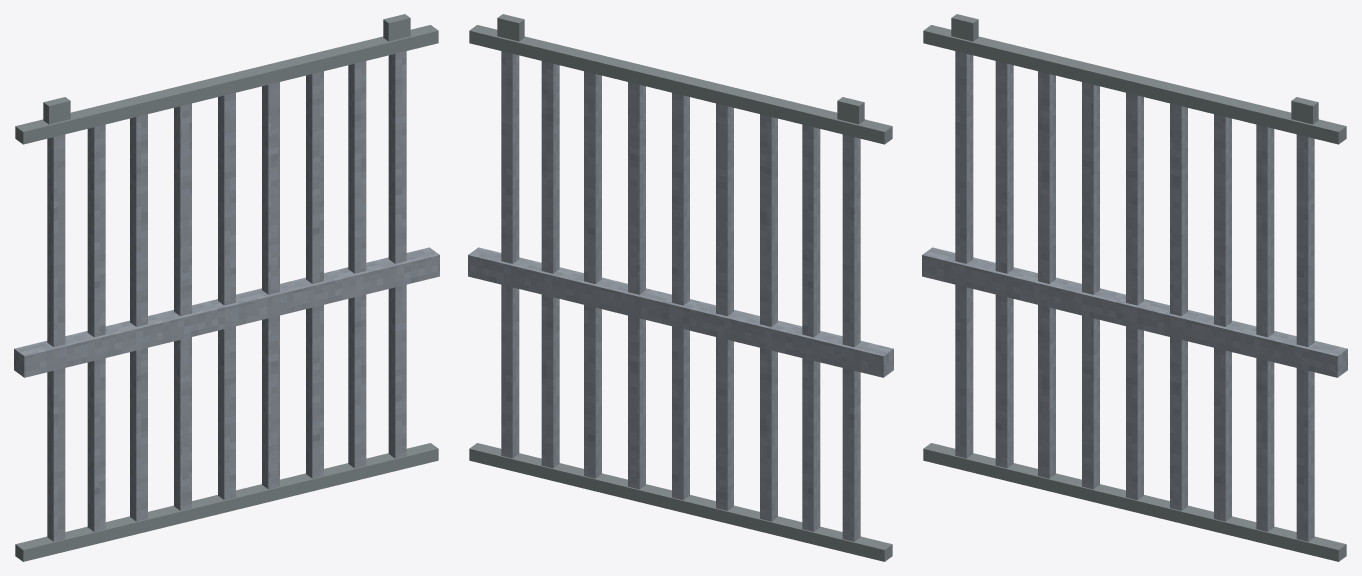
The model's file is vehicle-moving-panel.glb.
3 renders of one model, left to right at view 1: azimuth 30°, elevation 25°; view 2: azimuth 150°, elevation 25°; view 3: azimuth 330°, elevation 25°, orthographic.
Visible parts, largest first — view 1: Vehicle gate retained bars and cross rail, Entrance rebuild Vehicle gate moving head rail, Entrance rebuild Vehicle gate moving toe rail, Entrance rebuild Vehicle gate travelling hanger 33, Entrance rebuild Vehicle gate travelling hanger 34; view 2: Vehicle gate retained bars and cross rail, Entrance rebuild Vehicle gate moving head rail, Entrance rebuild Vehicle gate moving toe rail, Entrance rebuild Vehicle gate travelling hanger 33, Entrance rebuild Vehicle gate travelling hanger 34; view 3: Vehicle gate retained bars and cross rail, Entrance rebuild Vehicle gate moving head rail, Entrance rebuild Vehicle gate moving toe rail, Entrance rebuild Vehicle gate travelling hanger 34, Entrance rebuild Vehicle gate travelling hanger 33.
Boxes of the visible parts, x1,y1,x2,y2 form: Vehicle gate retained bars and cross rail: (14, 51, 439, 541); Entrance rebuild Vehicle gate moving head rail: (15, 25, 438, 144); Entrance rebuild Vehicle gate moving toe rail: (15, 443, 438, 561); Entrance rebuild Vehicle gate travelling hanger 33: (43, 97, 70, 124); Entrance rebuild Vehicle gate travelling hanger 34: (383, 14, 410, 41); Vehicle gate retained bars and cross rail: (468, 51, 893, 541); Entrance rebuild Vehicle gate moving head rail: (469, 25, 892, 144); Entrance rebuild Vehicle gate moving toe rail: (469, 443, 892, 561); Entrance rebuild Vehicle gate travelling hanger 33: (837, 97, 864, 124); Entrance rebuild Vehicle gate travelling hanger 34: (497, 14, 524, 41); Vehicle gate retained bars and cross rail: (922, 51, 1347, 541); Entrance rebuild Vehicle gate moving head rail: (923, 25, 1346, 144); Entrance rebuild Vehicle gate moving toe rail: (923, 443, 1346, 561); Entrance rebuild Vehicle gate travelling hanger 34: (1291, 97, 1318, 124); Entrance rebuild Vehicle gate travelling hanger 33: (951, 14, 978, 41).
Size of the model in its own units: 3 by 3.09 by 0.13.
2 materials, 1 textured.
